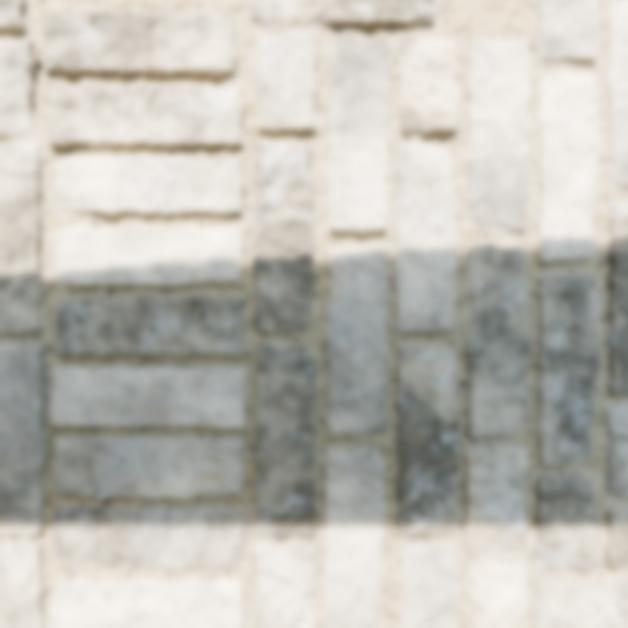brick: (536, 275, 601, 466), (44, 11, 236, 75), (465, 243, 528, 437), (467, 38, 530, 231), (48, 84, 243, 146), (537, 72, 600, 261), (52, 506, 244, 568), (50, 367, 244, 428), (395, 141, 457, 331), (55, 295, 244, 357), (396, 347, 458, 535), (328, 38, 387, 233), (464, 446, 527, 627), (253, 143, 313, 333), (54, 438, 243, 498), (326, 245, 386, 434), (256, 346, 315, 537), (52, 156, 243, 215), (54, 227, 243, 286), (325, 448, 384, 627), (50, 578, 243, 627), (0, 343, 46, 535), (0, 140, 42, 334), (536, 473, 599, 572), (397, 35, 459, 134), (255, 31, 315, 131), (250, 0, 437, 27), (256, 544, 314, 627), (401, 545, 459, 627), (534, 578, 627, 627), (605, 2, 627, 187), (0, 540, 45, 627), (537, 0, 599, 61), (608, 203, 627, 394), (0, 40, 35, 137), (607, 405, 627, 497), (606, 508, 627, 567), (0, 0, 25, 31), (296, 596, 316, 627), (254, 140, 267, 146)
crack: (110, 87, 160, 144), (265, 572, 314, 627), (69, 517, 124, 561), (566, 592, 626, 627), (181, 296, 226, 341), (0, 228, 32, 291), (254, 165, 290, 196), (270, 504, 316, 526), (216, 163, 243, 195), (277, 477, 314, 499), (395, 148, 409, 193), (76, 62, 126, 73), (34, 47, 44, 72), (254, 141, 273, 151), (32, 99, 37, 125), (89, 488, 101, 497), (619, 433, 627, 441), (343, 38, 350, 45)
